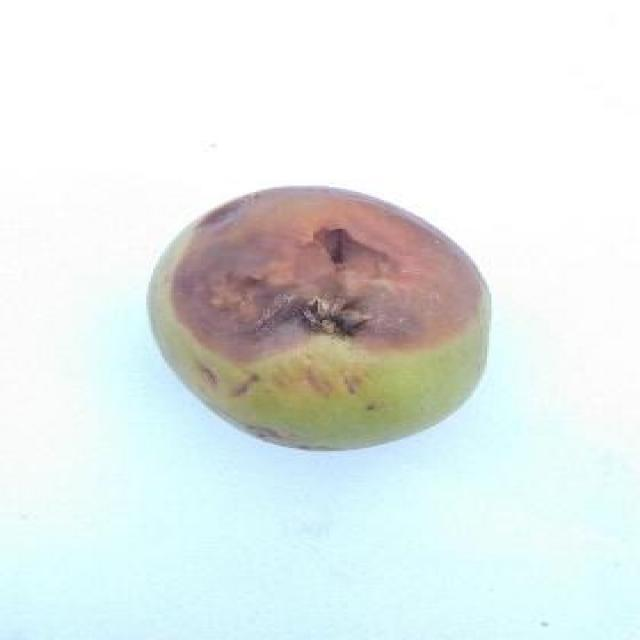Apple: (150, 190, 500, 452)
